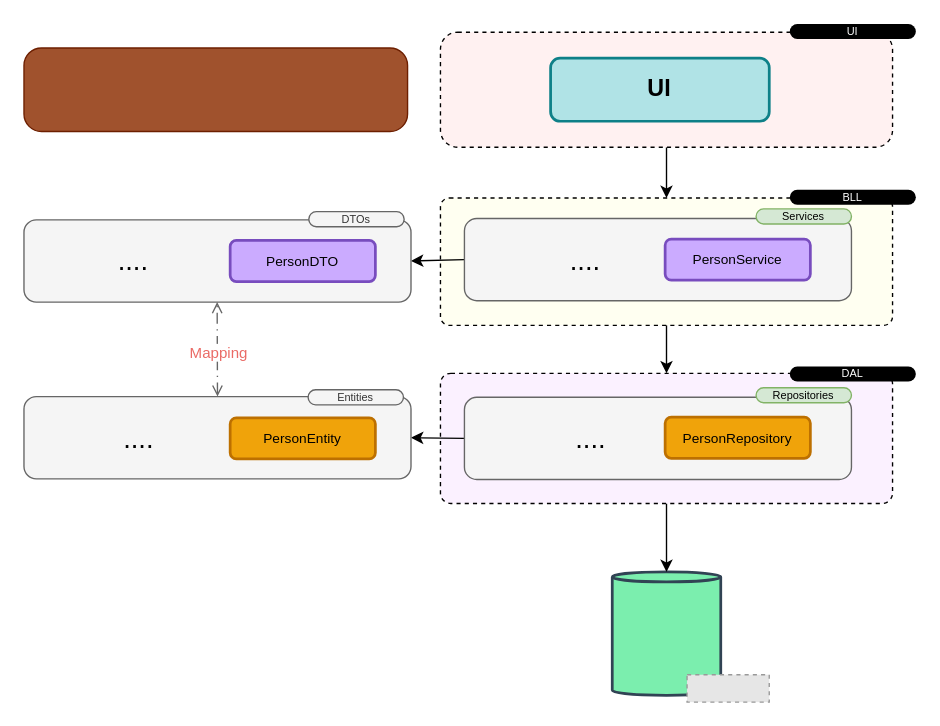
This 940x726 diagram has some shape labels left out. Grey dashed boxes stand in for pictures. The centre of each missing label's shape, as x and y in pixels:
"DVLD" goes at (x=665, y=633).
"N-Tier Architecture" goes at (x=215, y=89).
